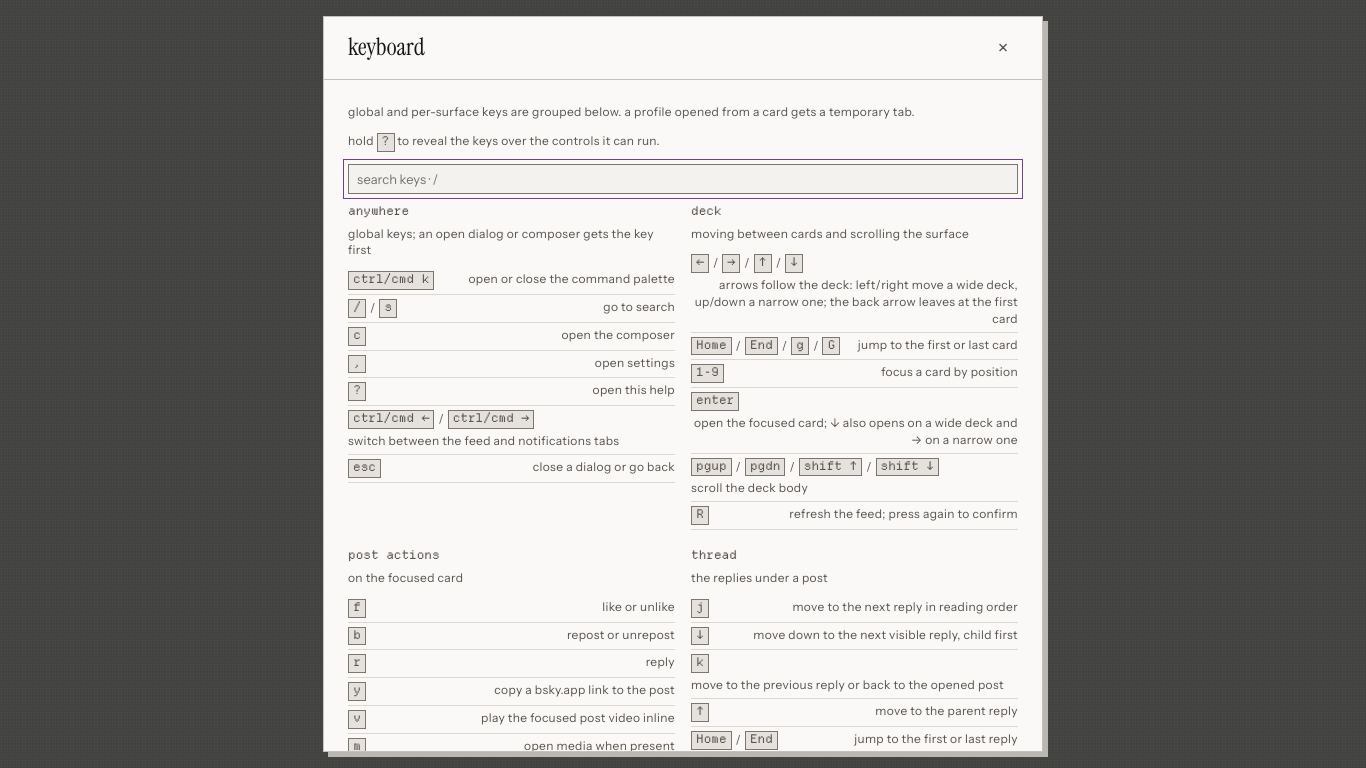
Test: HelpDialog › filters the generated rows as the query changes
This screenshot has width=1366, height=768.
Expected: the text "like or unlike" is shown, [602, 599, 675, 616]
Type "unrepost" into the search field named "search keybindings".
click(683, 179); type("unrepost")  # box [348, 164, 1018, 194]
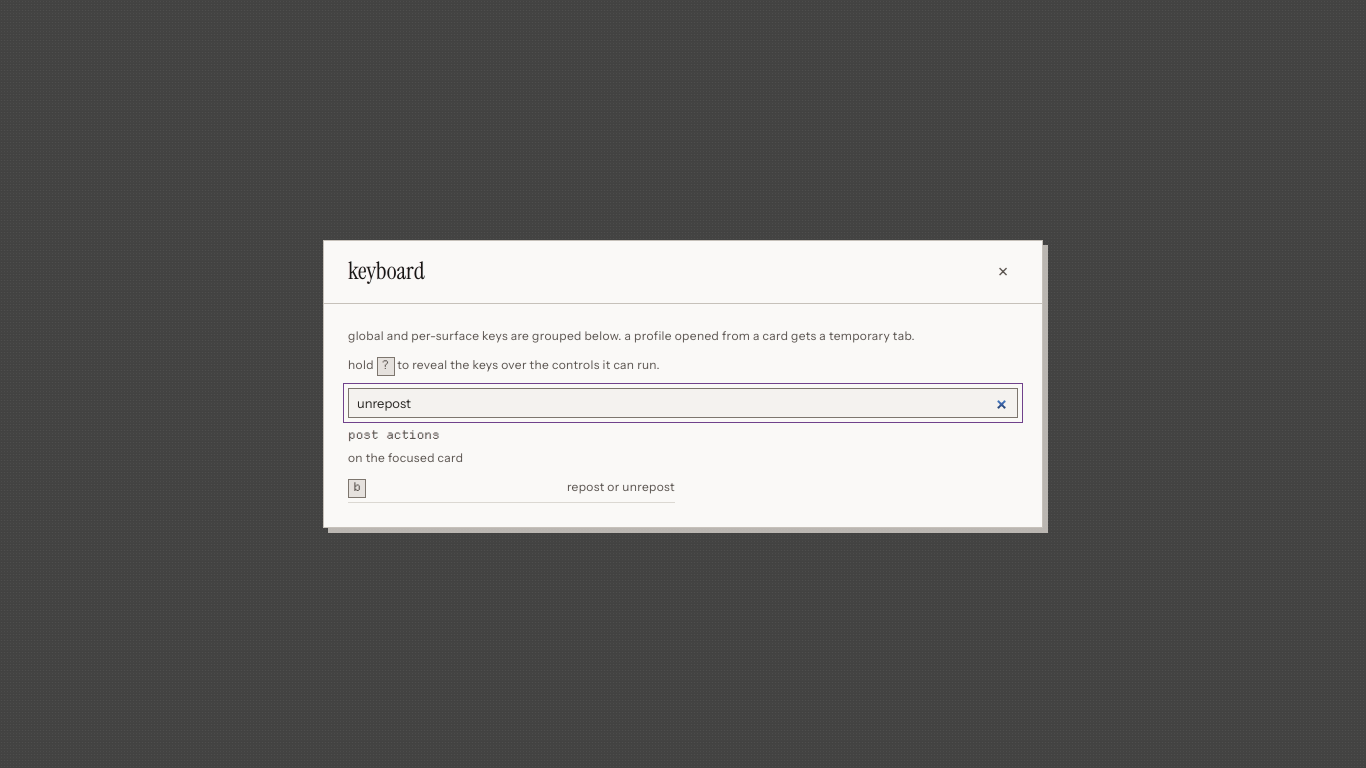
Expected: the text "repost or unrepost" is shown, [567, 479, 675, 496]
Result: the text "like or unlike" is gone
Replace the text in the search field named "search keybindings" with "nothing matches this" at (683, 403), box [348, 388, 1018, 418]
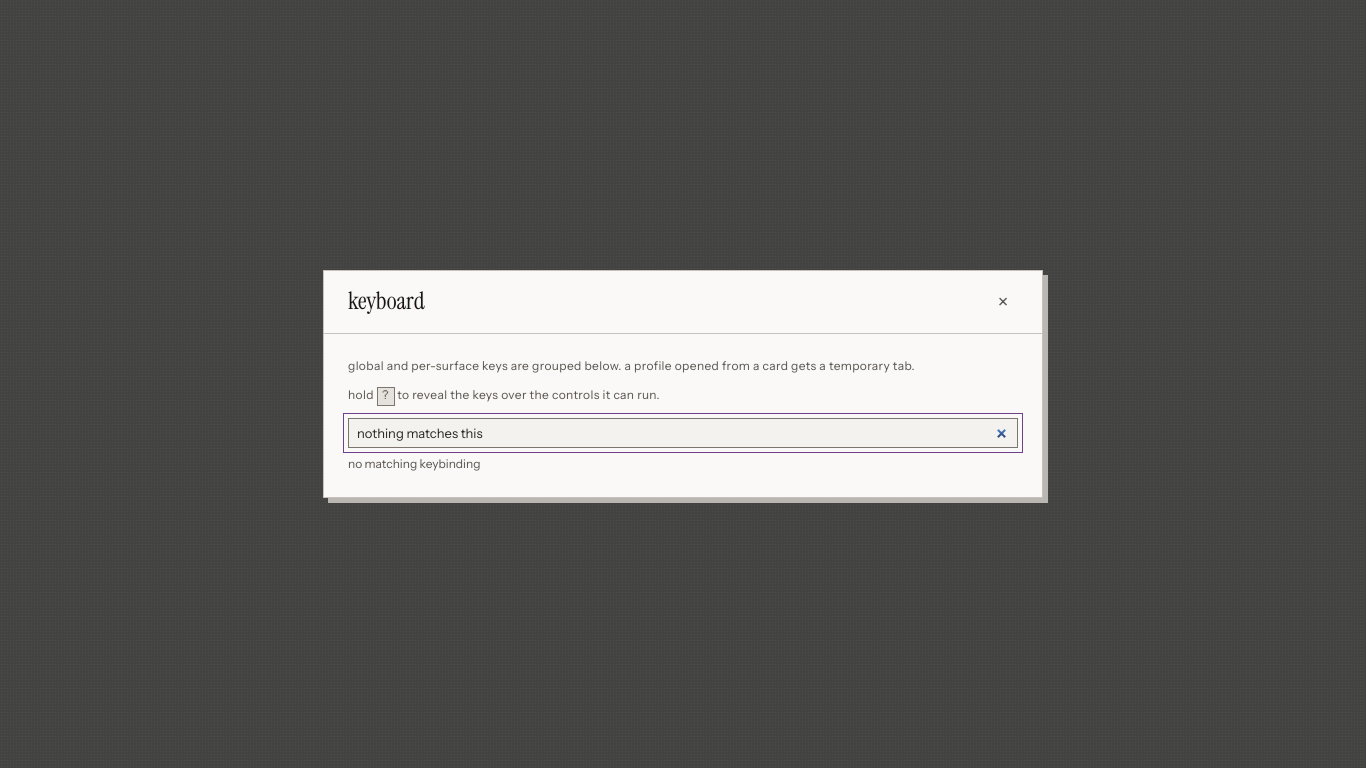
Result: the text "no matching keybinding" is shown at [348, 456, 480, 471]
